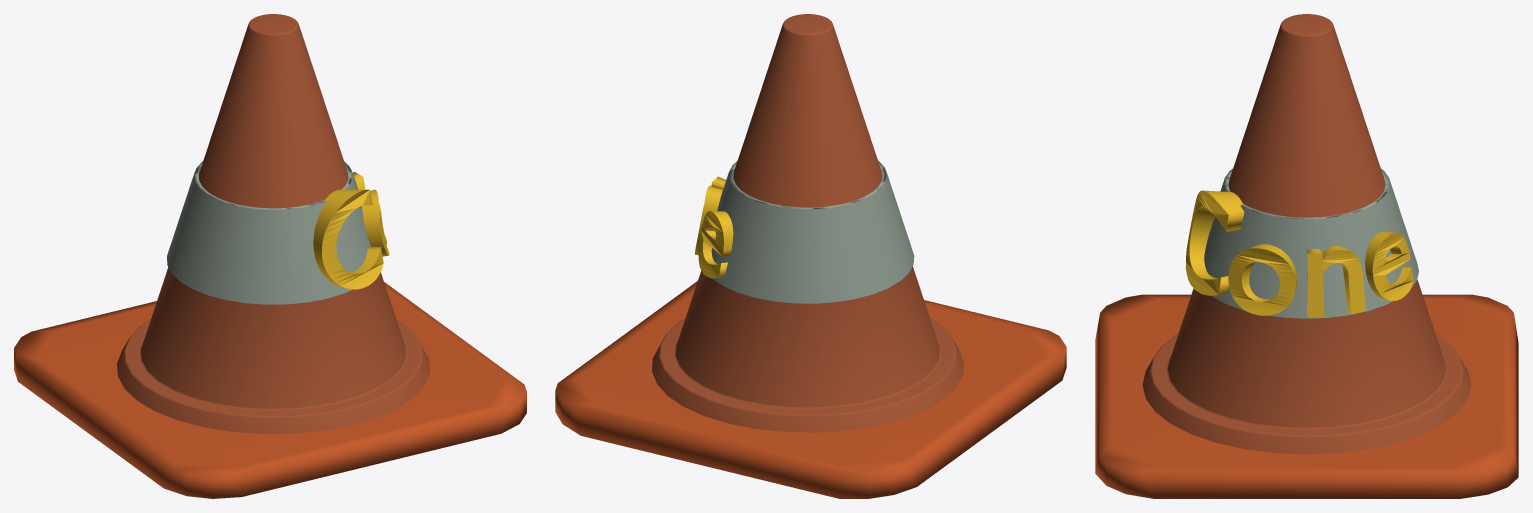
File: _traffic cone (1).fbx
The picture shows the model from 3 angles, left to right: view 1: azimuth 30°, elevation 25°; view 2: azimuth 150°, elevation 25°; view 3: azimuth 270°, elevation 25°; orthographic projection. The views are drawn at different scales.
Parts seen in each view (by area): view 1: BézierCircle; view 2: BézierCircle; view 3: BézierCircle.
Boxes of the visible parts, <box> form: BézierCircle: <box>14,14,526,498</box>; BézierCircle: <box>555,14,1066,498</box>; BézierCircle: <box>1095,14,1518,498</box>.
Size of the model in its own units: 219 by 216 by 214.
